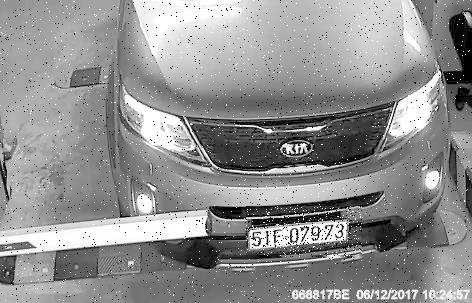License-plate: (248, 208, 364, 259)
